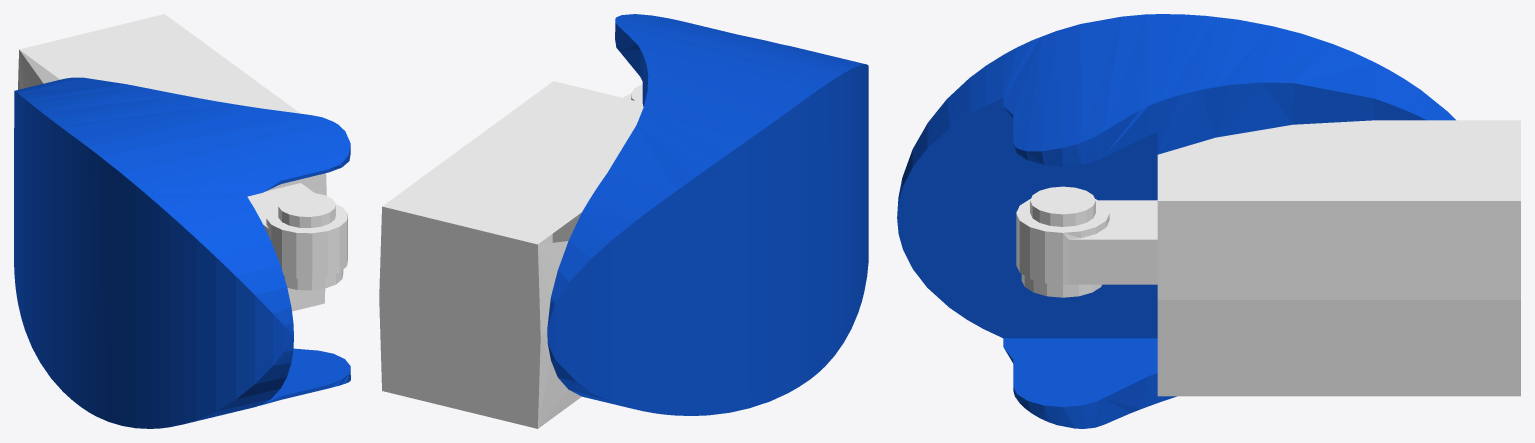
Rendered from L_ELBOW_P_LINK_mesh.dae.
3 renders of one model, left to right at view 1: azimuth 30°, elevation 25°; view 2: azimuth 150°, elevation 25°; view 3: azimuth 270°, elevation 25°, orthographic. The views are drawn at different scales.
Parts seen in each view (by area): view 1: L_ELBOW_P_LINK (×2); view 2: L_ELBOW_P_LINK (×2); view 3: L_ELBOW_P_LINK (×2).
Part boxes in pixels (x1=…): L_ELBOW_P_LINK (×2): x1=14, y1=14, x2=350, y2=428; L_ELBOW_P_LINK (×2): x1=379, y1=14, x2=868, y2=428; L_ELBOW_P_LINK (×2): x1=897, y1=14, x2=1520, y2=428.
Size of the model in its own units: 0.0965 by 0.1002 by 0.188.
